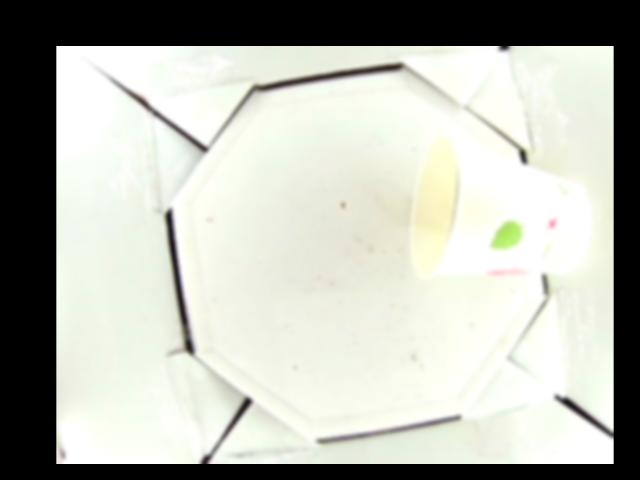Cup: (410, 133, 593, 279)
